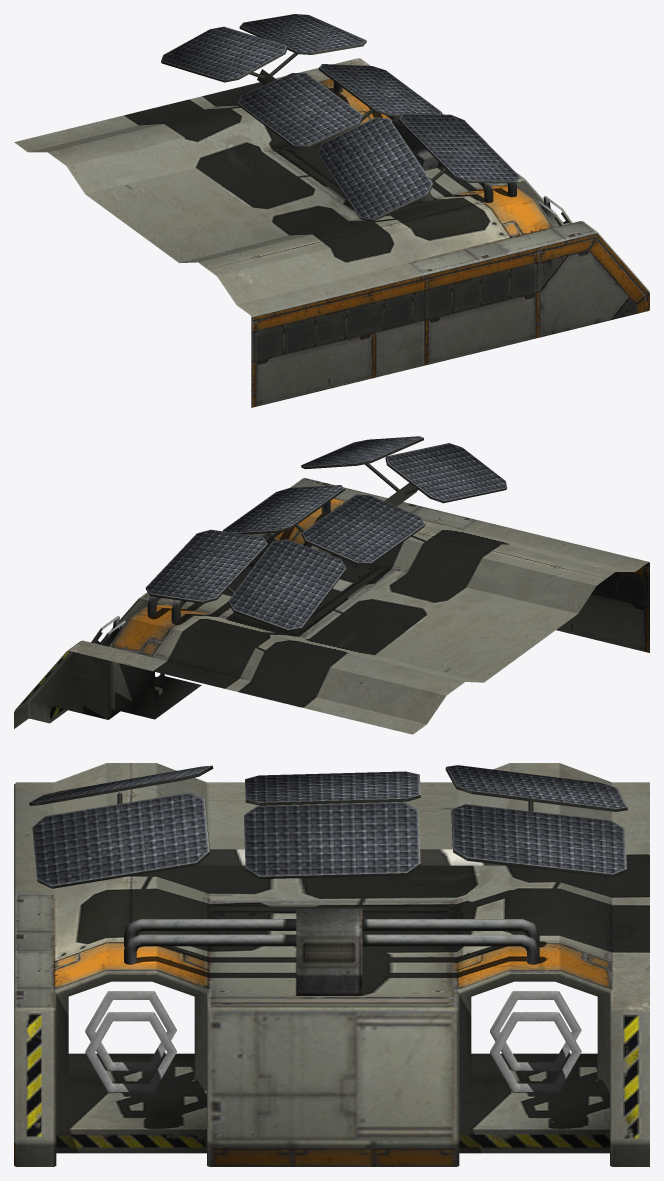
The model's file is ML1_Laser_L.FBX.
The picture shows the model from 3 angles, top to bottom: view 1: azimuth 30°, elevation 25°; view 2: azimuth 150°, elevation 25°; view 3: azimuth 270°, elevation 25°; orthographic projection. The views are drawn at different scales.
Visible parts, largest first — view 1: Mesh; view 2: Mesh; view 3: Mesh.
Boxes of the visible parts, left/top/right/bottom form: Mesh: left=14, top=14, right=649, bottom=407; Mesh: left=14, top=436, right=649, bottom=734; Mesh: left=14, top=763, right=649, bottom=1166.
Size of the model in its own units: 19.72 by 9.15 by 20.3.
Materials: 1 (1 with a texture image).
